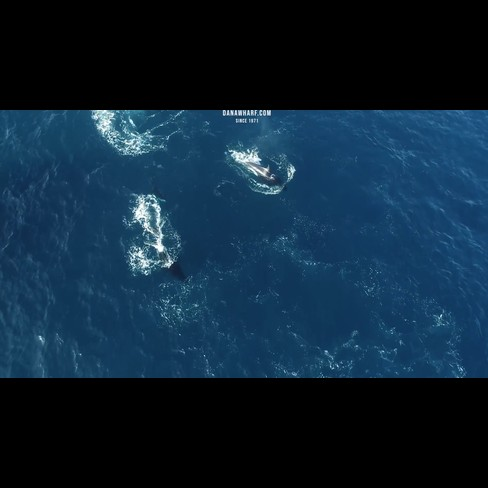orca: (134, 198, 192, 287), (221, 148, 293, 197)
